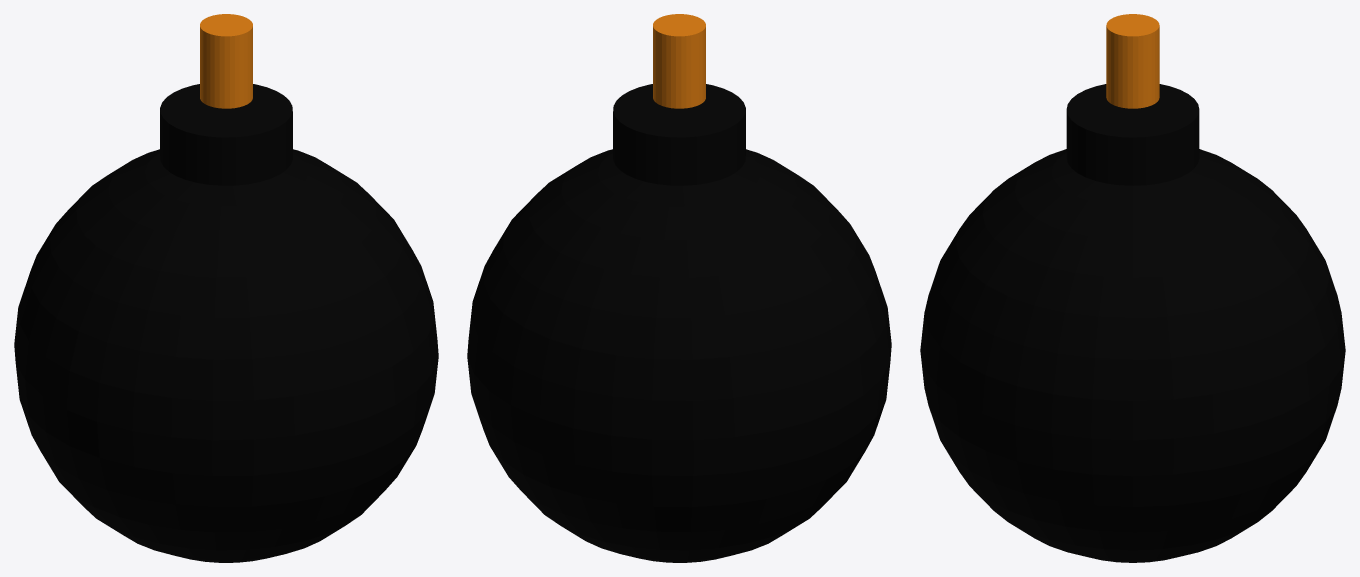
Rendered from bomb001.fbx.
3 views of the same model, side by side, from view 1: azimuth 30°, elevation 25°; view 2: azimuth 150°, elevation 25°; view 3: azimuth 270°, elevation 25° (orthographic).
Parts seen in each view (by area): view 1: BombBody, BombHead, BombFuse; view 2: BombBody, BombHead, BombFuse; view 3: BombBody, BombHead, BombFuse.
Boxes of the visible parts, left/top/right/bottom form: BombBody: left=14, top=149, right=438, bottom=562; BombHead: left=160, top=84, right=292, bottom=185; BombFuse: left=200, top=14, right=252, bottom=108; BombBody: left=467, top=149, right=891, bottom=562; BombHead: left=613, top=84, right=745, bottom=185; BombFuse: left=653, top=14, right=705, bottom=108; BombBody: left=920, top=149, right=1345, bottom=562; BombHead: left=1066, top=84, right=1199, bottom=185; BombFuse: left=1106, top=14, right=1159, bottom=108.
Bounding box in the file's own units: 160 × 215 × 160.
